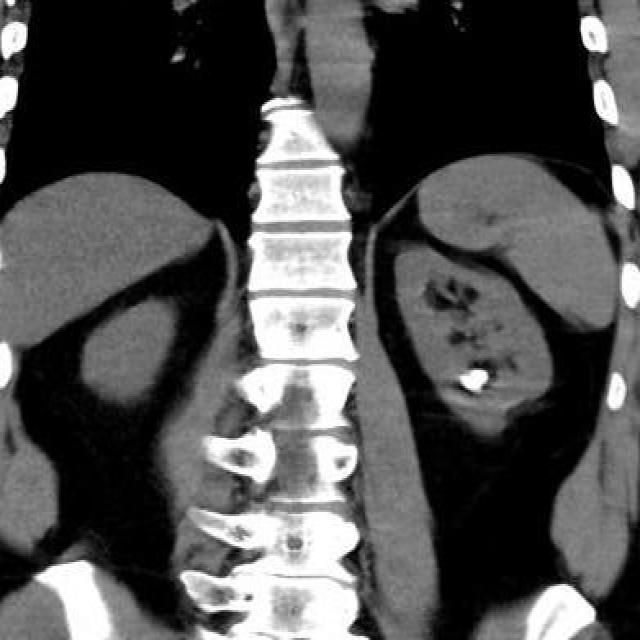Tas_Var: (460, 364, 491, 394)
